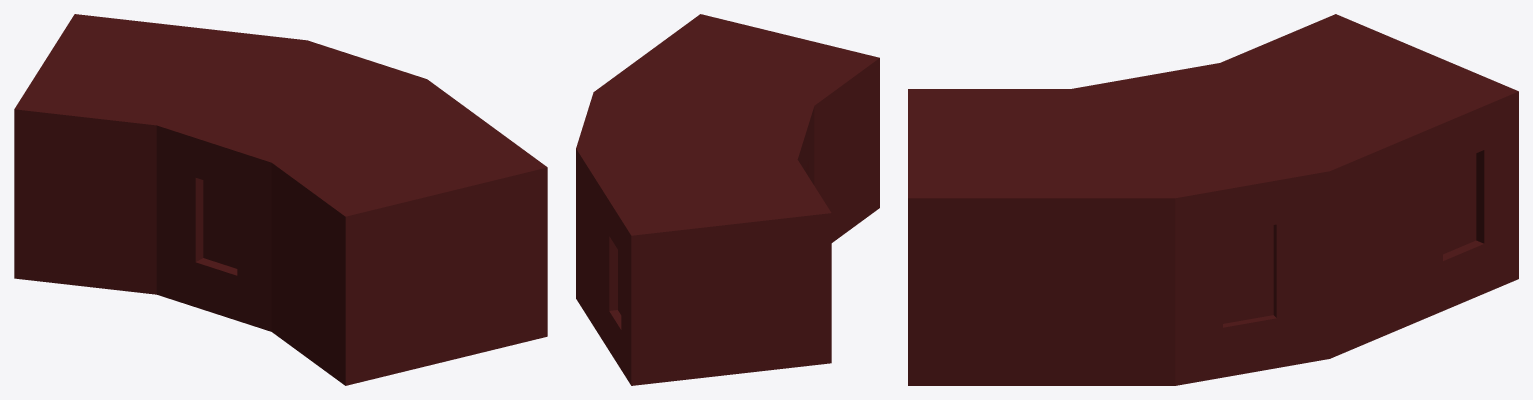
Rendered from curve45_mid_1.glb.
The picture shows the model from 3 angles, left to right: view 1: azimuth 30°, elevation 25°; view 2: azimuth 150°, elevation 25°; view 3: azimuth 270°, elevation 25°; orthographic projection. The views are drawn at different scales.
Visible parts, largest first — view 1: curve45_mid_1; view 2: curve45_mid_1; view 3: curve45_mid_1.
Boxes of the visible parts, <box> form: curve45_mid_1: <box>14,14,547,385</box>; curve45_mid_1: <box>576,14,879,385</box>; curve45_mid_1: <box>908,14,1518,385</box>.
Bounding box in the file's own units: 8.42 × 4 × 11.8.
